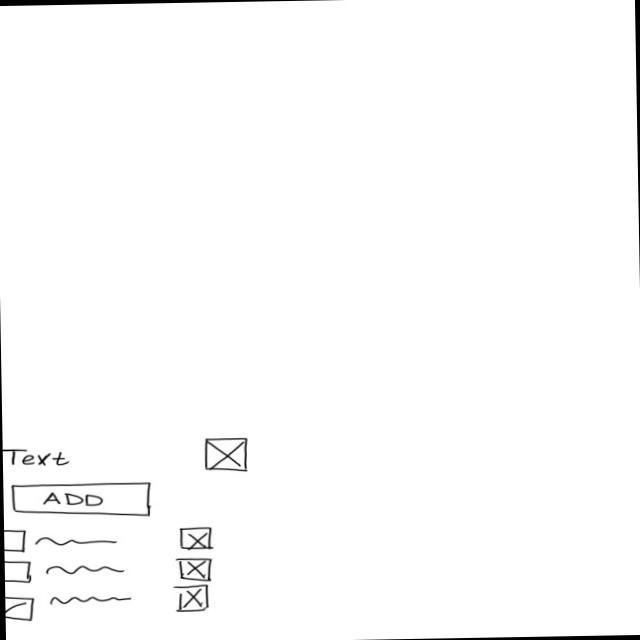button: (11, 481, 153, 520)
checkbox: (6, 593, 137, 623), (6, 558, 128, 586), (5, 527, 120, 553)
image: (204, 437, 251, 474), (177, 526, 217, 551), (177, 557, 214, 584), (178, 585, 210, 614)
label: (4, 447, 72, 469)
